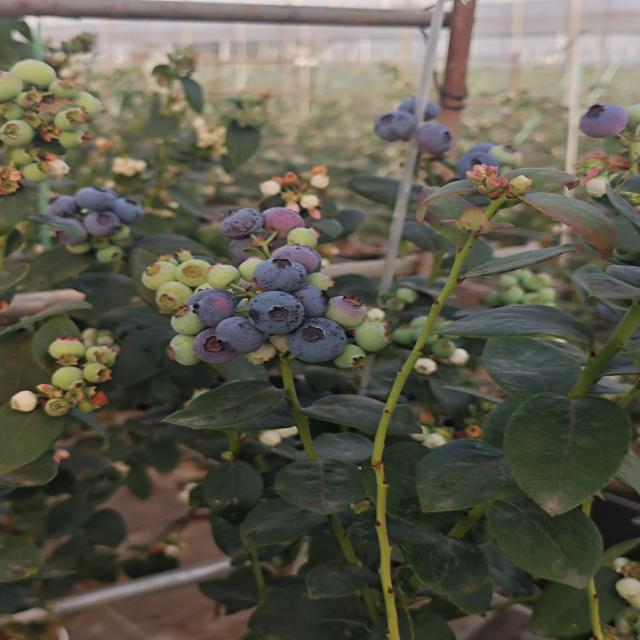ripe: (284, 316, 349, 364), (245, 289, 306, 336), (186, 285, 244, 327), (252, 247, 305, 289), (215, 314, 263, 351), (579, 96, 629, 131), (224, 205, 271, 236), (278, 238, 319, 268), (110, 196, 154, 223), (265, 207, 309, 233), (373, 110, 411, 140), (192, 334, 226, 366), (68, 185, 113, 208), (54, 225, 93, 249), (405, 98, 445, 118), (461, 150, 493, 173), (418, 126, 445, 147), (47, 198, 78, 214), (89, 216, 116, 231)
